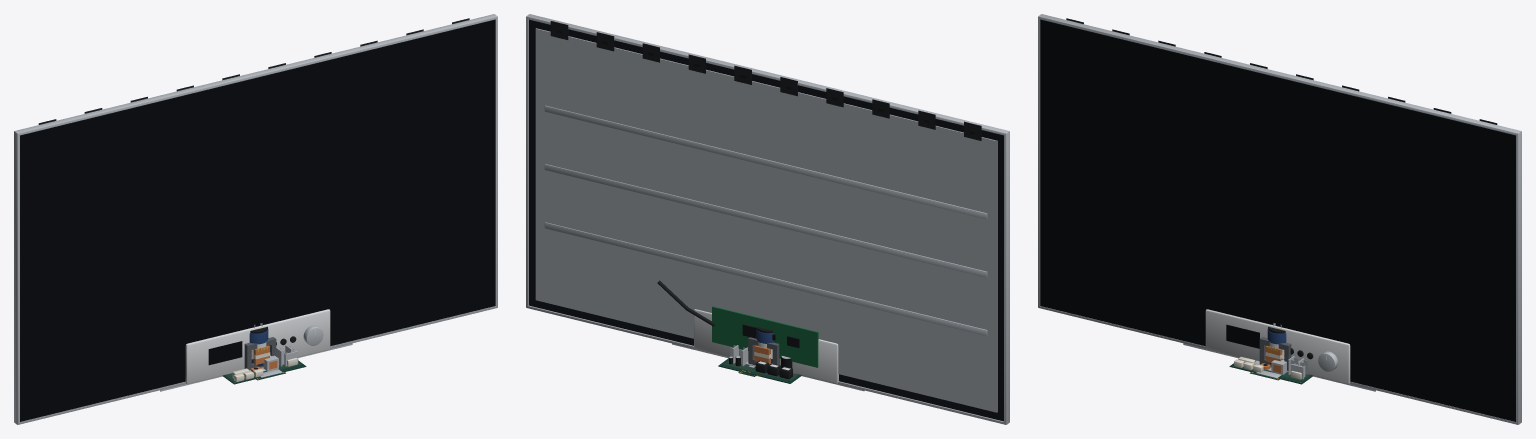
Rendered from electronica.glb.
The picture shows the model from 3 angles, left to right: view 1: azimuth 30°, elevation 25°; view 2: azimuth 150°, elevation 25°; view 3: azimuth 330°, elevation 25°; orthographic projection.
Visible parts, largest first — view 1: pantalla@panel__vidrio, pantalla@panel__metal, panel__cuerpo, pantalla@panel__cuerpo, panel__vidrio; view 2: pantalla@panel__metal, pantalla@panel__cuerpo, pantalla@panel__plastico, pantalla@panel__pcb, panel__cuerpo, pantalla@panel__chip; view 3: pantalla@panel__vidrio, pantalla@panel__metal, panel__cuerpo, pantalla@panel__cuerpo, panel__vidrio.
Boxes of the visible parts, left/top/right/bottom form: pantalla@panel__vidrio: left=20, top=20, right=495, bottom=421; pantalla@panel__metal: left=14, top=14, right=497, bottom=424; panel__cuerpo: left=185, top=309, right=330, bottom=384; pantalla@panel__cuerpo: left=20, top=19, right=495, bottom=421; panel__vidrio: left=208, top=341, right=242, bottom=365; pantalla@panel__metal: left=526, top=14, right=1009, bottom=424; pantalla@panel__cuerpo: left=529, top=19, right=1003, bottom=421; pantalla@panel__plastico: left=550, top=21, right=981, bottom=326; pantalla@panel__pcb: left=712, top=306, right=818, bottom=367; panel__cuerpo: left=694, top=309, right=838, bottom=383; pantalla@panel__chip: left=556, top=29, right=975, bottom=347; pantalla@panel__vidrio: left=1040, top=20, right=1515, bottom=421; pantalla@panel__metal: left=1038, top=14, right=1521, bottom=424; panel__cuerpo: left=1205, top=309, right=1350, bottom=384; pantalla@panel__cuerpo: left=1040, top=19, right=1515, bottom=421; panel__vidrio: left=1226, top=324, right=1259, bottom=348.
Bounding box in the file's own units: 100 × 58.82 × 11.2.
